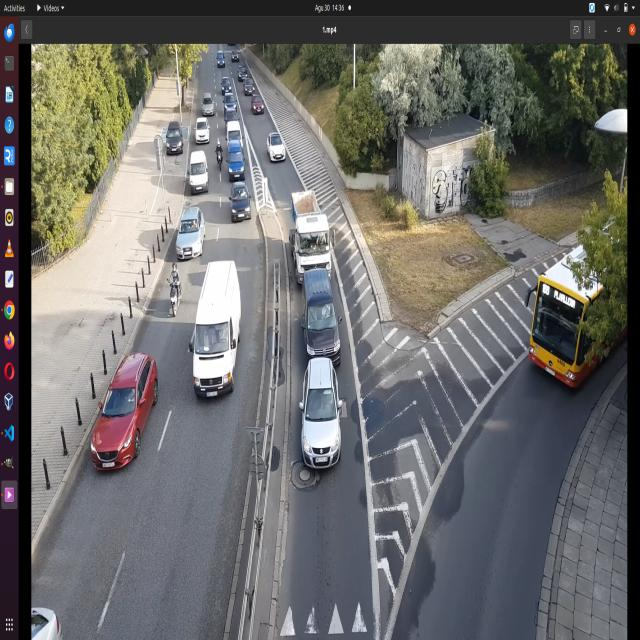person_with_seatbelt: (124, 382, 142, 410), (319, 303, 333, 324), (308, 305, 318, 327), (317, 232, 329, 249)
person_without_seatbelt: (197, 327, 215, 356), (212, 322, 230, 348)
